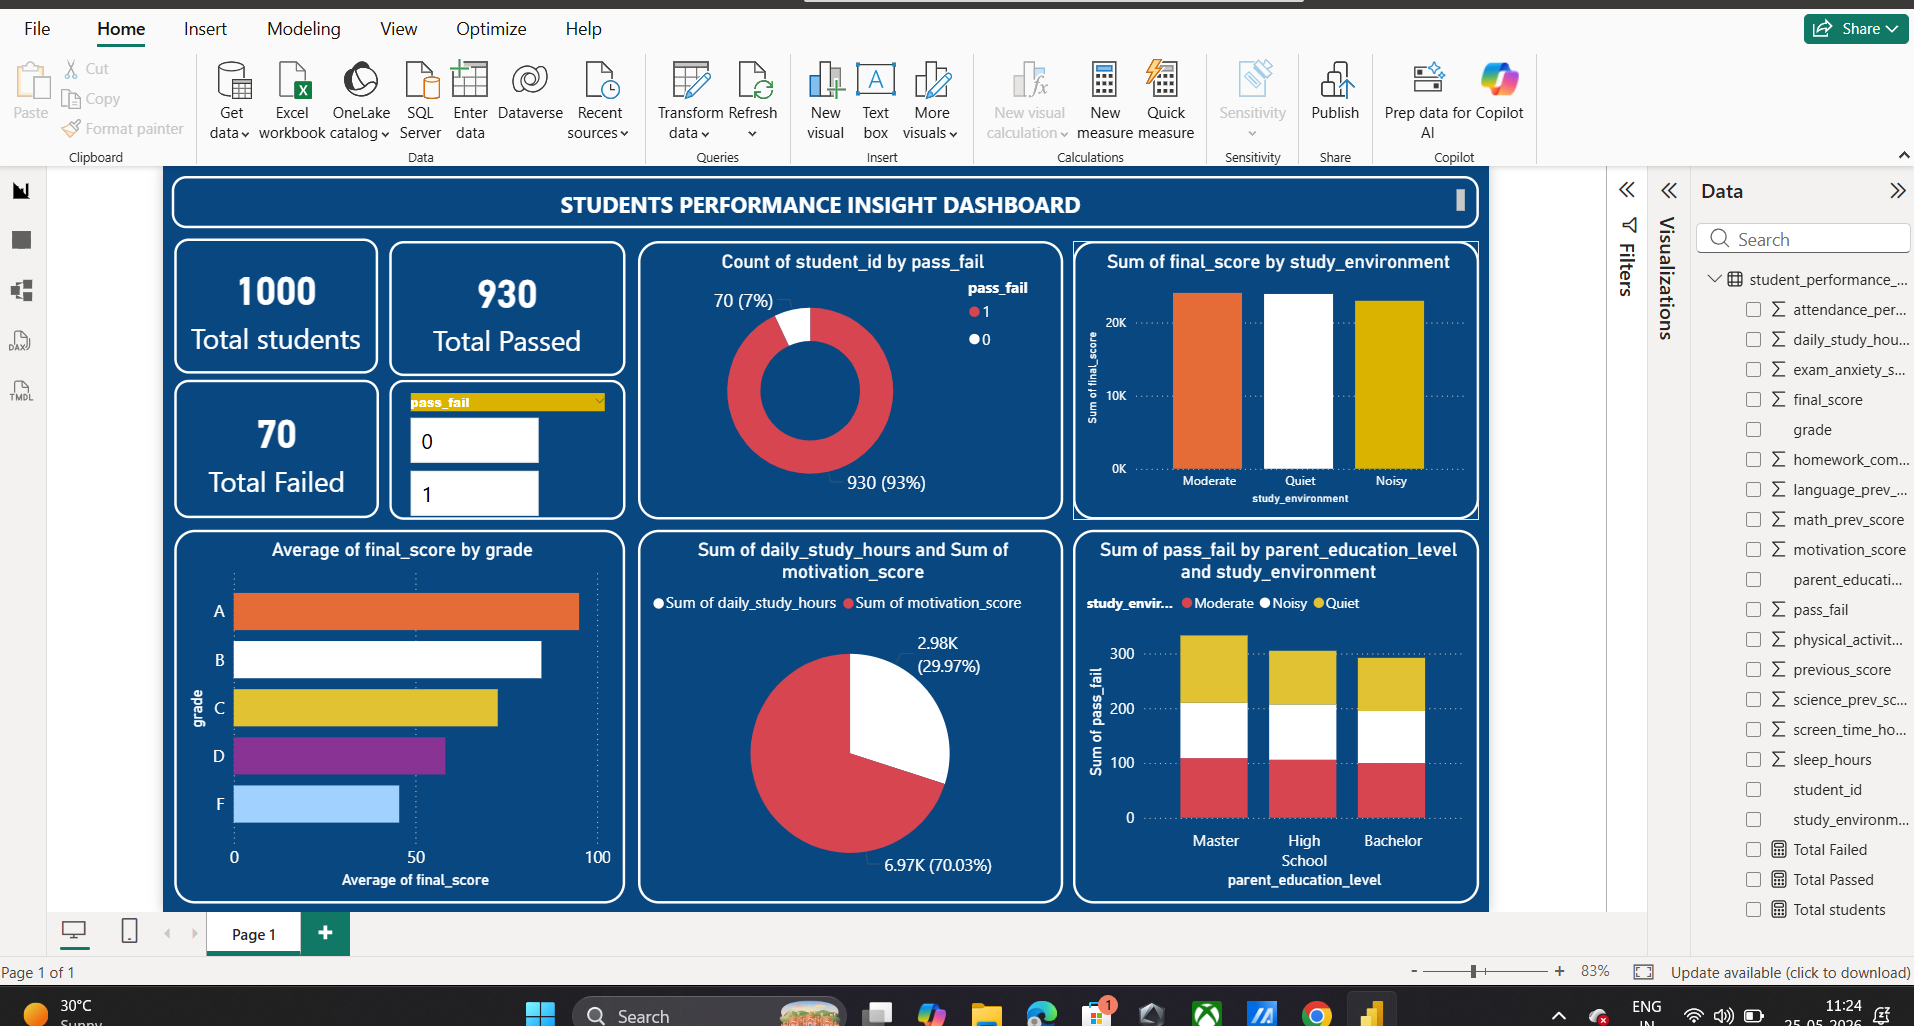

What the dashboard file says about the page in this screenshot:
{"tool":"powerbi","page":{"name":"Page 1","canvas":[1280,720],"ordinal":0},"visuals":[{"type":"textbox","box":[8.4,9.7,1261.9,50.7],"z":0},{"type":"card","fields":{"Values":["student_performance_interactions.Total students"]},"box":[10.9,70,196.6,130.3],"z":1000},{"type":"card","fields":{"Values":["student_performance_interactions.Total Passed"]},"box":[218.4,72.4,228,130.3],"z":2000},{"type":"card","fields":{"Values":["student_performance_interactions.Total Failed"]},"box":[10.9,206.3,197.9,133.9],"z":3000},{"type":"clusteredBarChart","fields":{"Category":["student_performance_interactions.grade"],"Y":["Avg(student_performance_interactions.final_score)"]},"box":[10.9,351.1,435.5,360.7],"z":4000},{"type":"donutChart","fields":{"Category":["student_performance_interactions.pass_fail"],"Y":["CountNonNull(student_performance_interactions.student_id)"]},"box":[458.4,72.4,410.2,269],"z":5000},{"type":"columnChart","fields":{"Y":["Sum(student_performance_interactions.final_score)"],"Category":["student_performance_interactions.study_environment"]},"box":[878.3,72.4,392.1,269],"z":6000},{"type":"columnChart","fields":{"Category":["student_performance_interactions.parent_education_level"],"Series":["student_performance_interactions.study_environment"],"Y":["Sum(student_performance_interactions.pass_fail)"]},"box":[878.3,351.1,392.1,360.7],"z":7000},{"type":"pieChart","fields":{"Y":["Sum(student_performance_interactions.daily_study_hours)","Sum(student_performance_interactions.motivation_score)"]},"box":[458.4,351.1,410.2,360.7],"z":8000},{"type":"slicer","fields":{"Values":["student_performance_interactions.pass_fail"]},"box":[218.4,206.3,228,135.1],"z":9000}]}

Visuals, with their boxes on the page's 1280x720 design canvas (x1, y1, x2, y2). These are canvas units, not pixel positions in the 1914x1026 screenshot, which may show the page scaled, cropped or inside an application window:
textbox: [8,10,1270,60]
card - student_performance_interactions.Total students: [11,70,208,200]
card - student_performance_interactions.Total Passed: [218,72,446,203]
card - student_performance_interactions.Total Failed: [11,206,209,340]
clusteredBarChart - student_performance_interactions.grade x Avg(student_performance_interactions.final_score): [11,351,446,712]
donutChart - student_performance_interactions.pass_fail x CountNonNull(student_performance_interactions.student_id): [458,72,869,341]
columnChart - Sum(student_performance_interactions.final_score) x student_performance_interactions.study_environment: [878,72,1270,341]
columnChart - student_performance_interactions.parent_education_level x student_performance_interactions.study_environment: [878,351,1270,712]
pieChart - Sum(student_performance_interactions.daily_study_hours) x Sum(student_performance_interactions.motivation_score): [458,351,869,712]
slicer - student_performance_interactions.pass_fail: [218,206,446,341]
